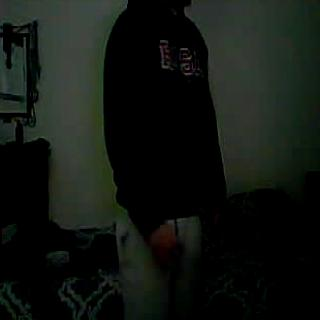HOSA hoodie: (102, 2, 228, 214)
White Sweatpants: (114, 215, 204, 320)
